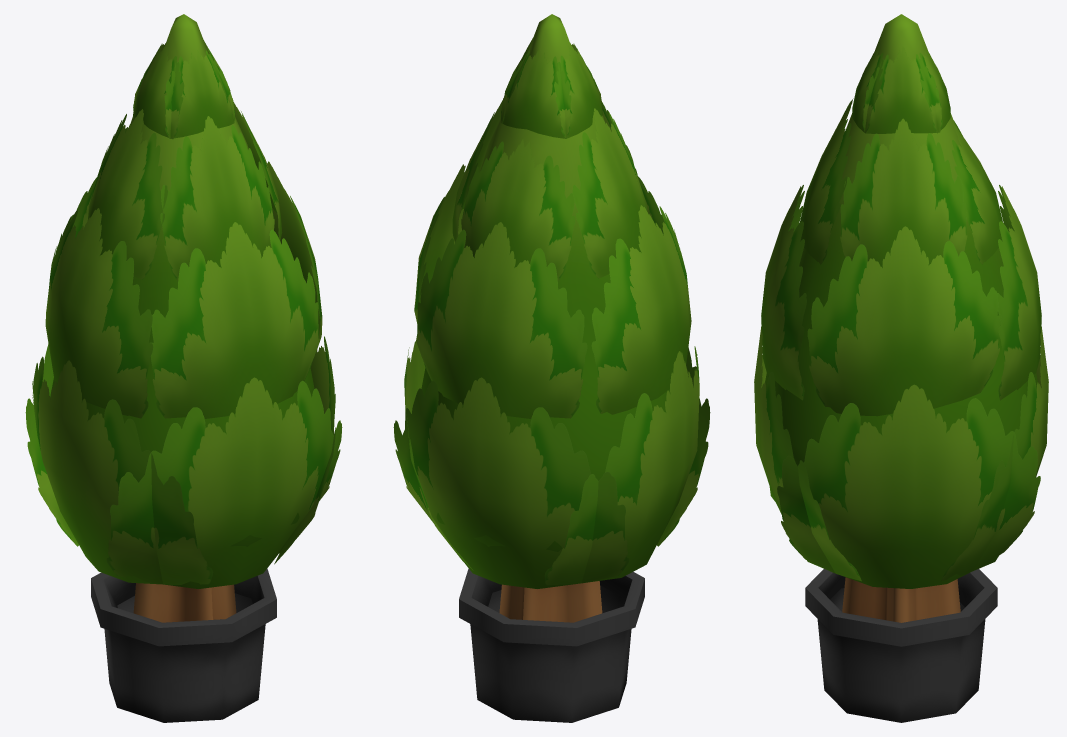
Rendered from Tree.fbx.
3 views of the same model, side by side, from view 1: azimuth 30°, elevation 25°; view 2: azimuth 150°, elevation 25°; view 3: azimuth 270°, elevation 25° (orthographic).
Visible parts, largest first — view 1: Tree.004, Tree.001; view 2: Tree.004, Tree.001; view 3: Tree.004, Tree.001.
Boxes of the visible parts, bbox=[...] form: Tree.004: bbox=[25, 14, 342, 622]; Tree.001: bbox=[91, 568, 276, 722]; Tree.004: bbox=[393, 14, 710, 622]; Tree.001: bbox=[459, 568, 644, 722]; Tree.004: bbox=[754, 14, 1048, 622]; Tree.001: bbox=[805, 569, 997, 722].
Size of the model in its own units: 60.6 by 62.4 by 154.
